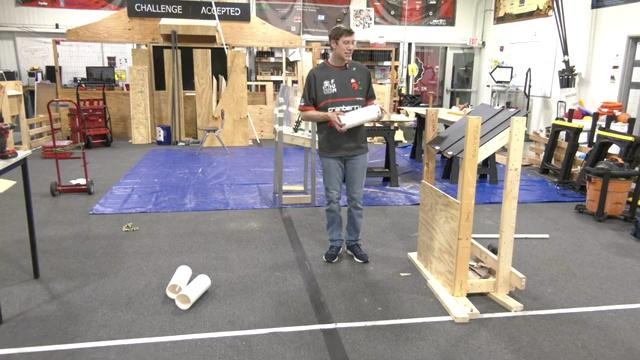CORAL: (174, 272, 211, 310), (337, 104, 382, 133), (164, 264, 192, 299)
